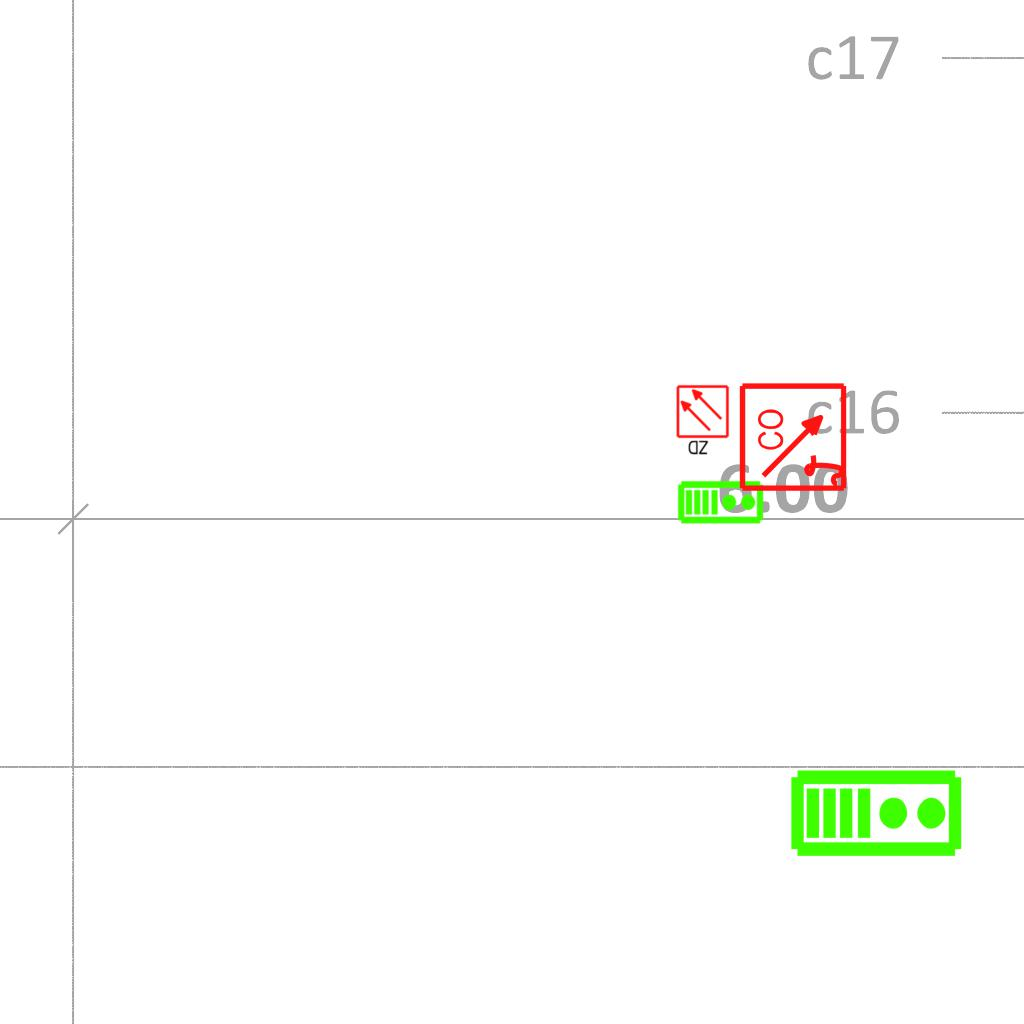Gegensprechanlage_mit_Video: (789, 764, 965, 859), (677, 478, 765, 525)
ROA_Rauchmelder_optisch_mit_Signalgeber_(Sockelsirene): (738, 380, 851, 493)
ZD_Melder_in_Zwischendecke_mit_Revisionsoeffnung_mind_40_x_40_cm: (675, 384, 732, 458)
